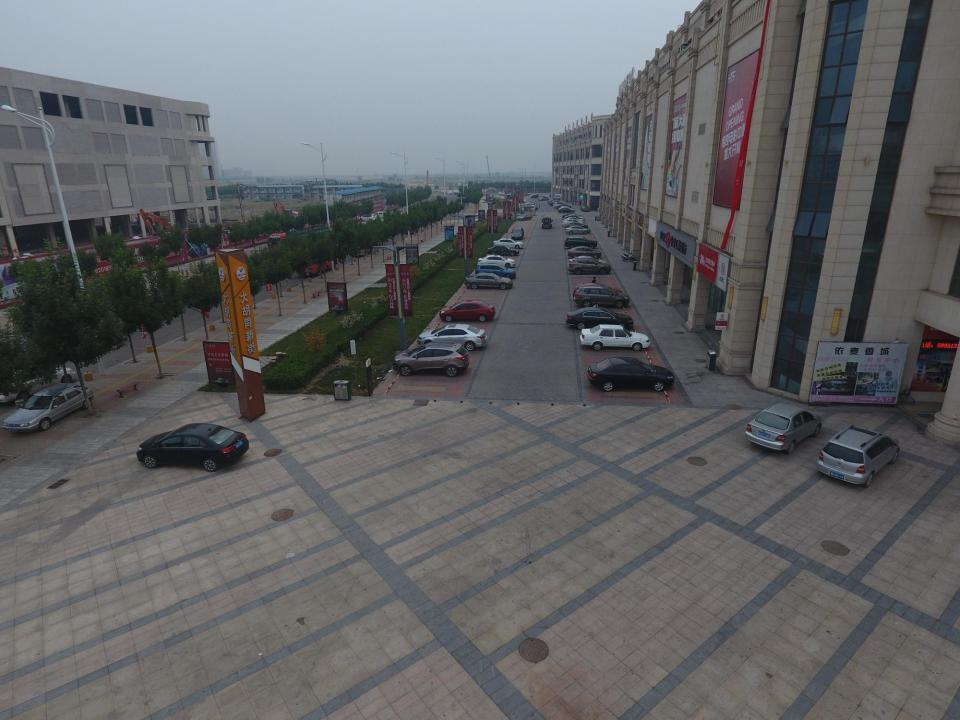car: (137, 422, 249, 474), (817, 424, 900, 487), (0, 383, 93, 433), (745, 402, 822, 453), (586, 358, 675, 392), (392, 341, 470, 377), (0, 367, 75, 404), (417, 323, 487, 351), (580, 324, 650, 350), (566, 308, 634, 330), (439, 300, 495, 322), (574, 286, 630, 308), (464, 273, 512, 290), (573, 282, 622, 298), (568, 258, 611, 275), (475, 264, 516, 279), (478, 255, 516, 268), (568, 246, 602, 258), (568, 256, 608, 266), (486, 245, 520, 256), (564, 237, 598, 248), (493, 238, 524, 249), (564, 226, 590, 234), (511, 228, 524, 240), (516, 214, 532, 220), (580, 206, 590, 212)
van: (541, 217, 553, 229)
